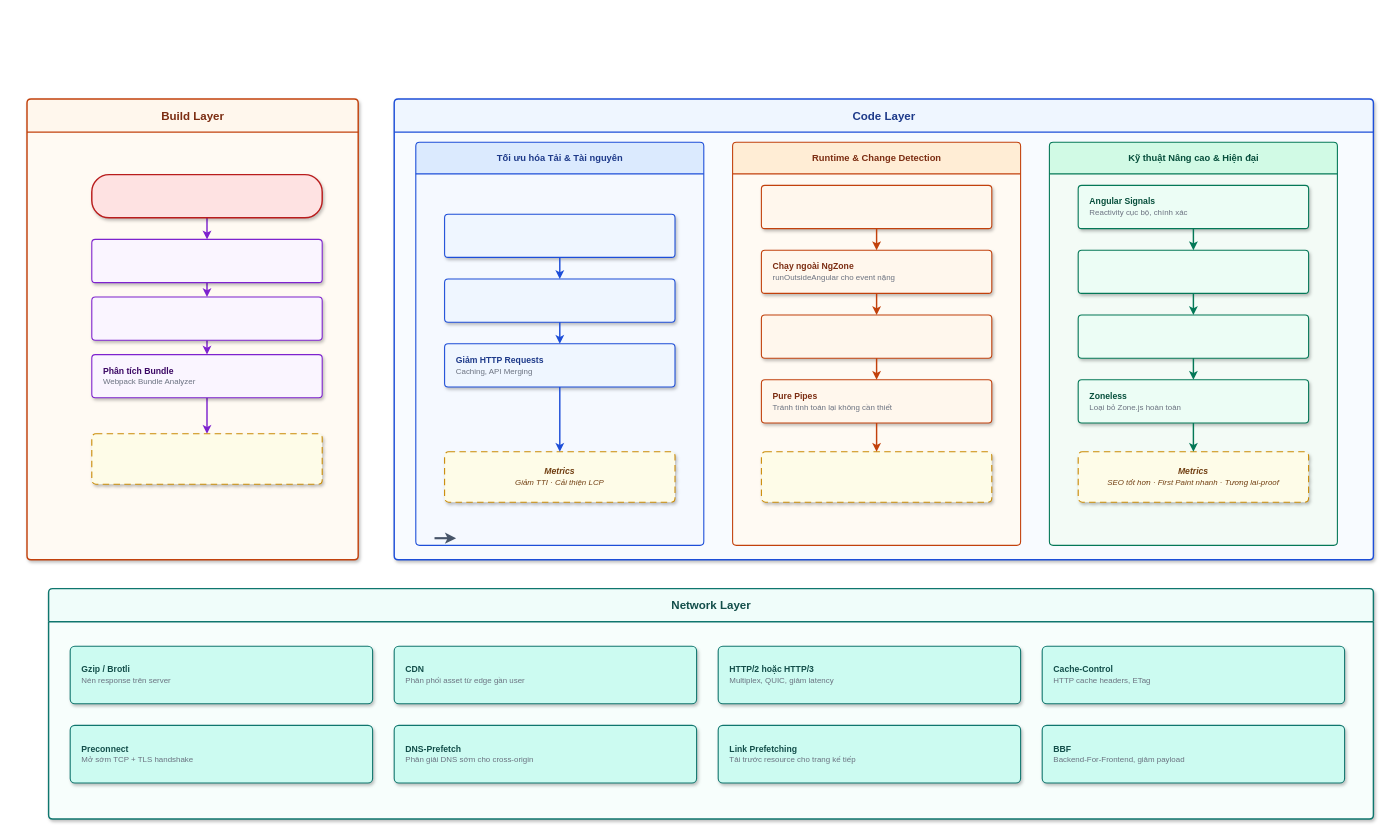
The diagram is 1390 pixels wide and 837 high, and some of its shapes have lost their labels. The shapes that lost their labels are listed below. From the top down, each one's centre as x and y in pixels, then its label:
At [207,197]: "Bắt đầu: Ứng dụng Chậm".
At [877,208]: "OnPush Strategy ChangeDetectionStrategy.OnPush".
At [560,236]: "Lazy Loading Module / Standalone Components".
At [207,262]: "AOT Compilation ng build --aot".
At [1193,272]: "SSR / SSG Angular Universal cho SEO & First Paint".
At [207,319]: "Tree-Shaking Loại bỏ code không sử dụng".
At [560,301]: "Tối ưu Hình ảnh NgOptimizedImage, Responsive".
At [877,337]: "trackBy Cho *ngFor danh sách lớn".
At [1193,337]: "Deferrable Views @defer cho block UI".
At [207,459]: "Metrics Giảm Bundle Size · Tăng tốc Tải ban đầu".
At [877,477]: "Metrics Giảm CPU usage · Giảm độ trễ UI".
